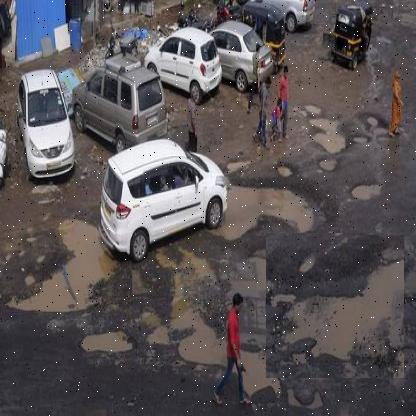pothole_water: (64, 303, 150, 371)
pothole_water_m: (266, 233, 405, 379), (296, 94, 378, 193)
